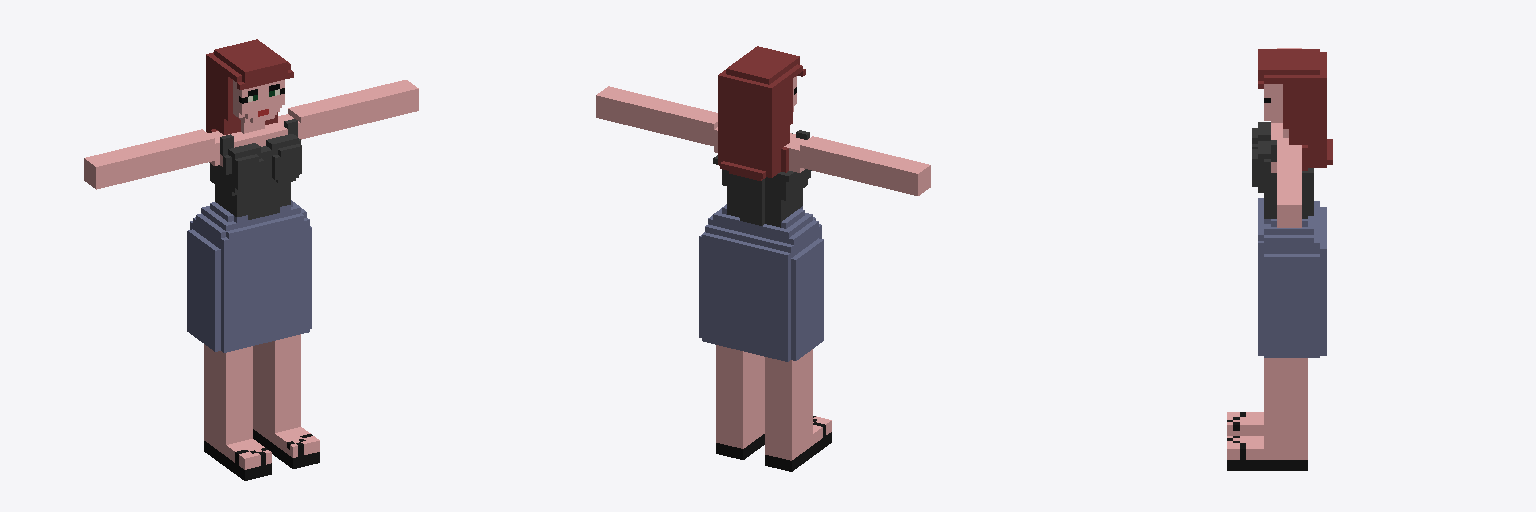
3 views of the same model, side by side, from view 1: azimuth 30°, elevation 25°; view 2: azimuth 150°, elevation 25°; view 3: azimuth 270°, elevation 25° (orthographic).
Visible parts, largest first — view 1: object 1; view 2: object 1; view 3: object 1.
Part boxes in pixels (bbox=[...]): object 1: bbox=[84, 39, 418, 480]; object 1: bbox=[596, 46, 930, 471]; object 1: bbox=[1227, 48, 1332, 470].
Size of the model in its own units: 6 by 7 by 1.7.
Materials: 1 (1 with a texture image).